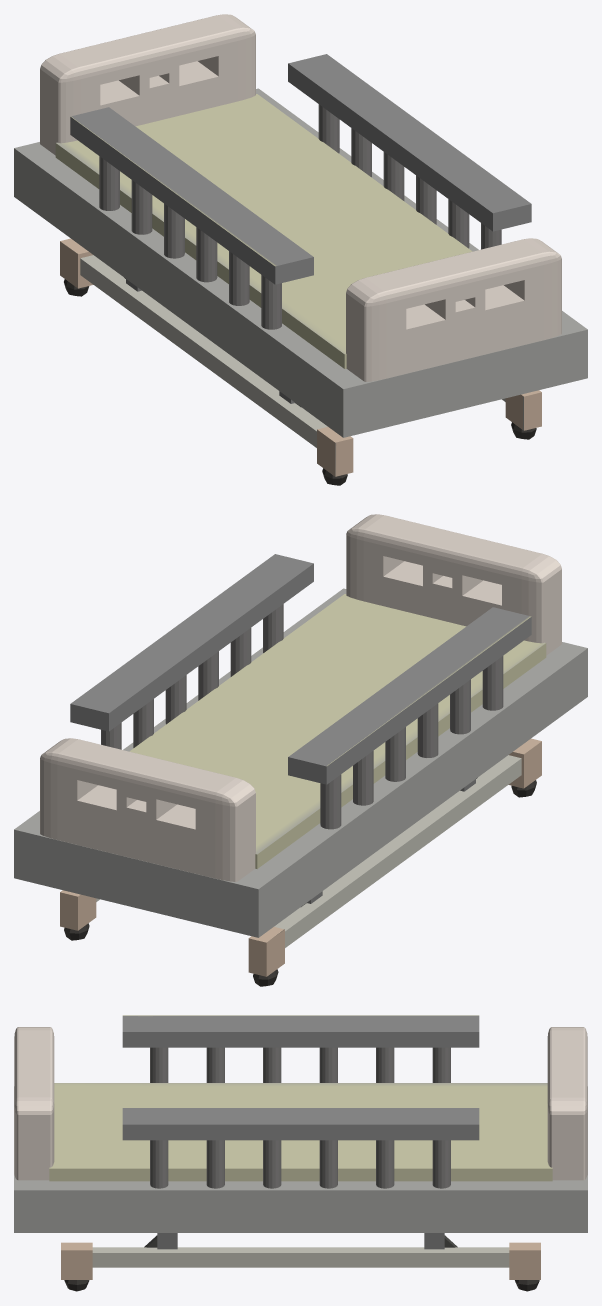
Rendered from HospitalBedDan.fbx.
3 renders of one model, top to bottom at view 1: azimuth 30°, elevation 25°; view 2: azimuth 150°, elevation 25°; view 3: azimuth 270°, elevation 25°, orthographic. The views are drawn at different scales.
Parts seen in each view (by area): view 1: HospitalBedDan; view 2: HospitalBedDan; view 3: HospitalBedDan.
Boxes of the visible parts, left/top/right/bottom form: HospitalBedDan: left=14, top=14, right=587, bottom=485; HospitalBedDan: left=14, top=514, right=587, bottom=986; HospitalBedDan: left=14, top=1015, right=587, bottom=1291.
Bounding box in the file's own units: 183 × 146 × 406.
